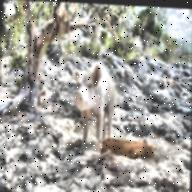boar: (50, 46, 130, 130)
